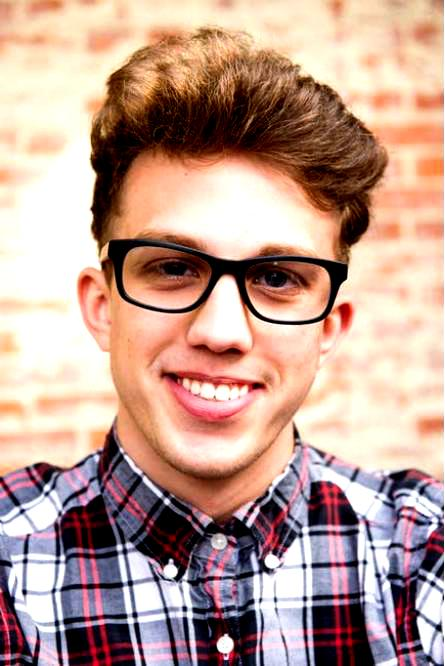face: (111, 153, 337, 475)
